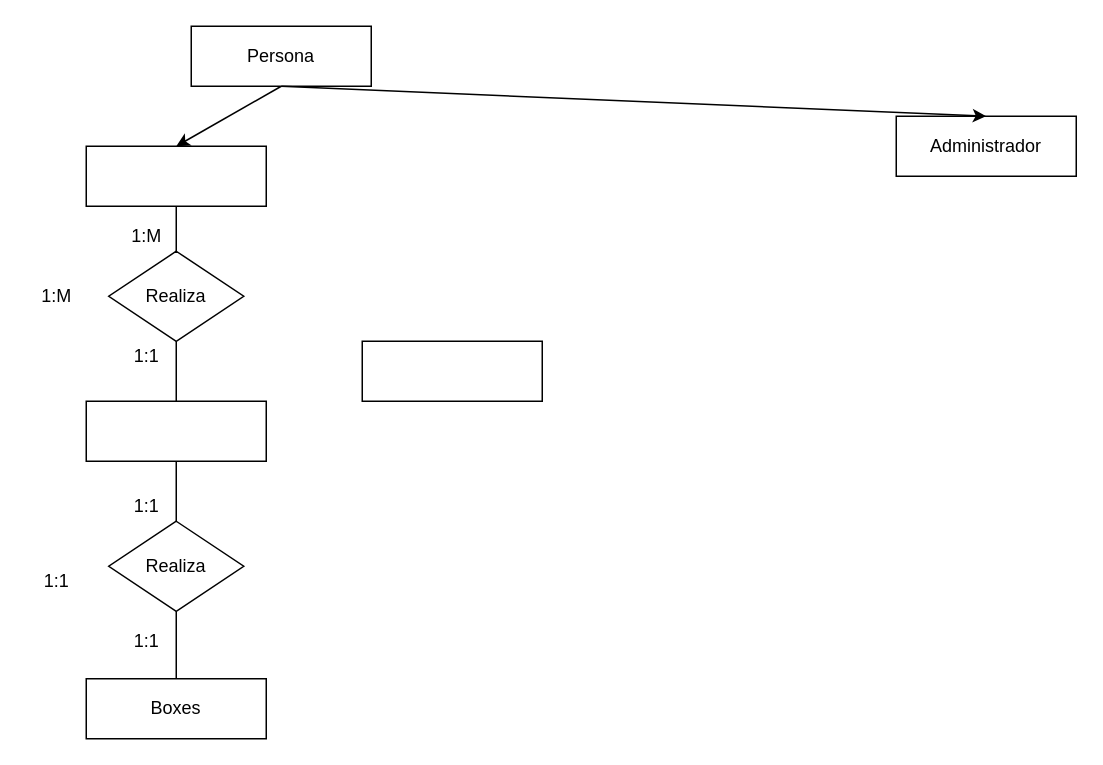
Some shapes in this 1103 by 765 pixel diagram are drawn without their labels. Here are the shapes that lost their labels. From the top down, the centre of each, then its label:
At pixel 175 175: "Socios".
At pixel 451 370: "Pago".
At pixel 175 430: "Alquiler".
